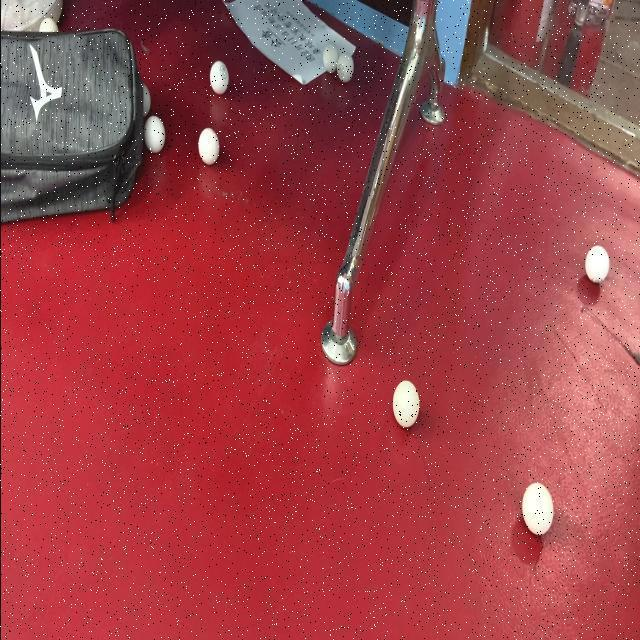ping-pong-ball: (520, 480, 556, 540), (388, 374, 421, 430), (582, 240, 610, 288), (195, 123, 221, 170), (142, 111, 168, 157), (207, 58, 230, 98), (334, 51, 356, 85), (320, 41, 337, 75)
